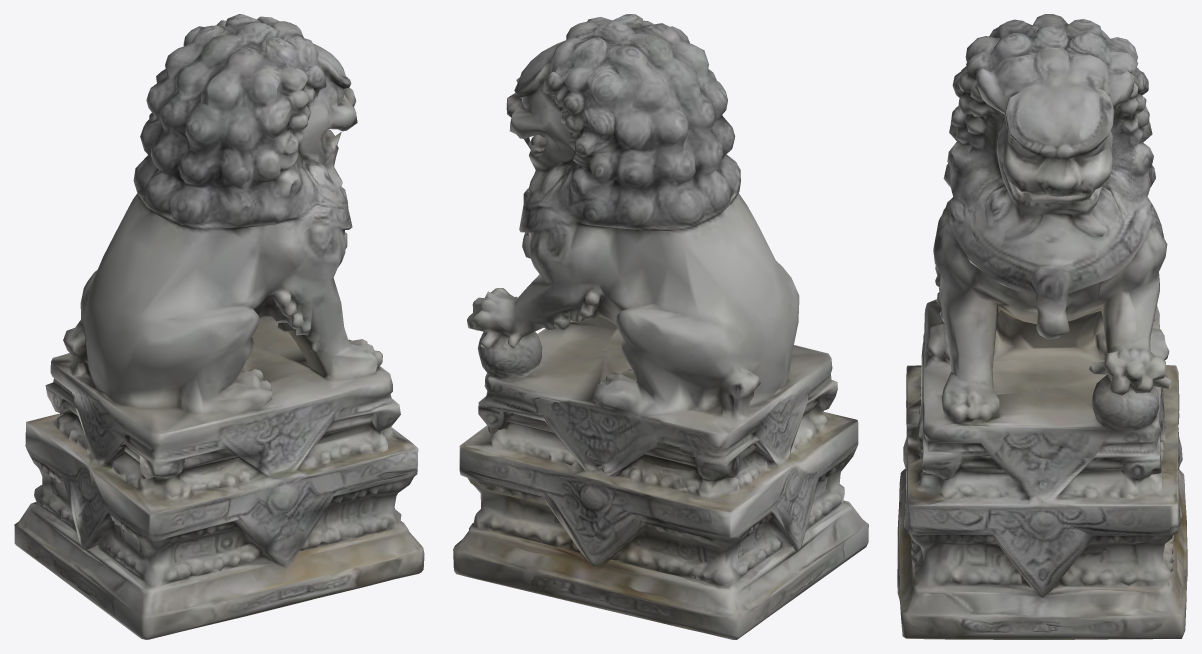
File: shishi.glb
3 renders of one model, left to right at view 1: azimuth 30°, elevation 25°; view 2: azimuth 150°, elevation 25°; view 3: azimuth 270°, elevation 25°, orthographic. The views are drawn at different scales.
Parts seen in each view (by area): view 1: tripo_node_59e3ab44-6e5b-41ff-b0dd-580b5499cf65; view 2: tripo_node_59e3ab44-6e5b-41ff-b0dd-580b5499cf65; view 3: tripo_node_59e3ab44-6e5b-41ff-b0dd-580b5499cf65.
Part boxes in pixels (x1,y1,x2,y2): tripo_node_59e3ab44-6e5b-41ff-b0dd-580b5499cf65: [14, 14, 424, 639]; tripo_node_59e3ab44-6e5b-41ff-b0dd-580b5499cf65: [453, 14, 868, 639]; tripo_node_59e3ab44-6e5b-41ff-b0dd-580b5499cf65: [897, 14, 1187, 639].
Size of the model in its own units: 0.5808 by 1 by 0.4683.
1 material, 1 textured.
